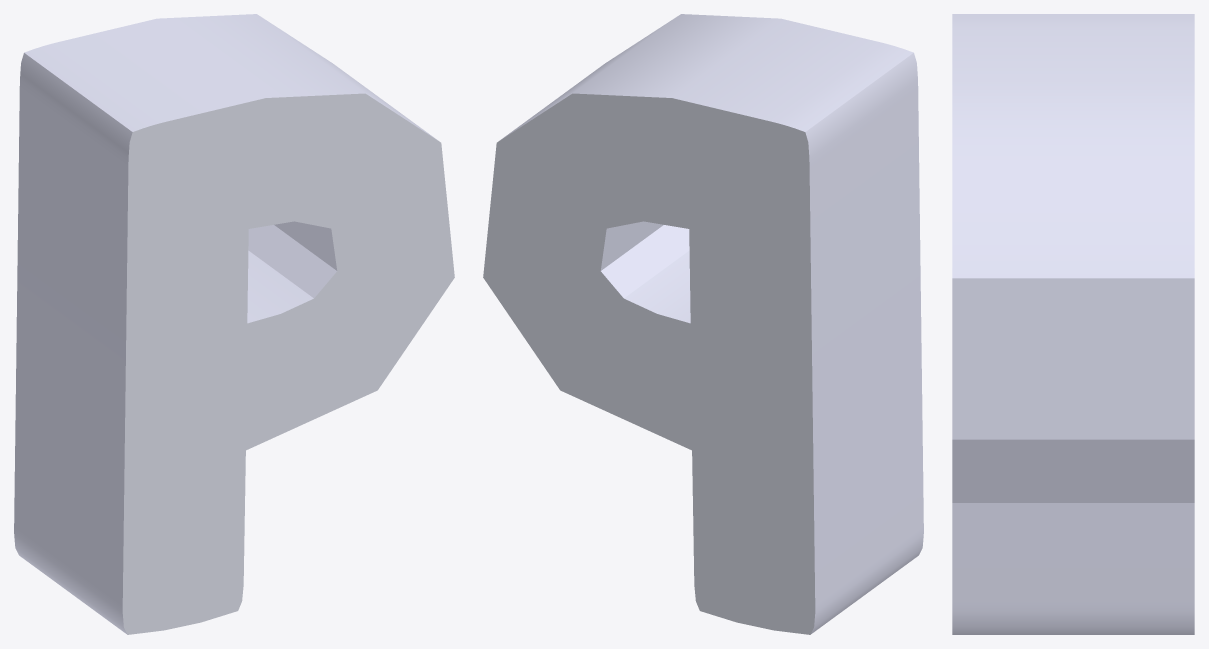
3 views of the same model, side by side, from view 1: azimuth 30°, elevation 25°; view 2: azimuth 150°, elevation 25°; view 3: azimuth 270°, elevation 25° (orthographic). The views are drawn at different scales.
Visible parts, largest first — view 1: p_Zyzol_Grey; view 2: p_Zyzol_Grey; view 3: p_Zyzol_Grey.
Part boxes in pixels (x1,y1,x2,y2): p_Zyzol_Grey: (14, 14, 454, 634); p_Zyzol_Grey: (483, 14, 923, 634); p_Zyzol_Grey: (952, 14, 1194, 634).
Size of what is drawn, in the model's own units: 0.0795 by 0.1164 by 0.045.
2 materials, 2 textured.
